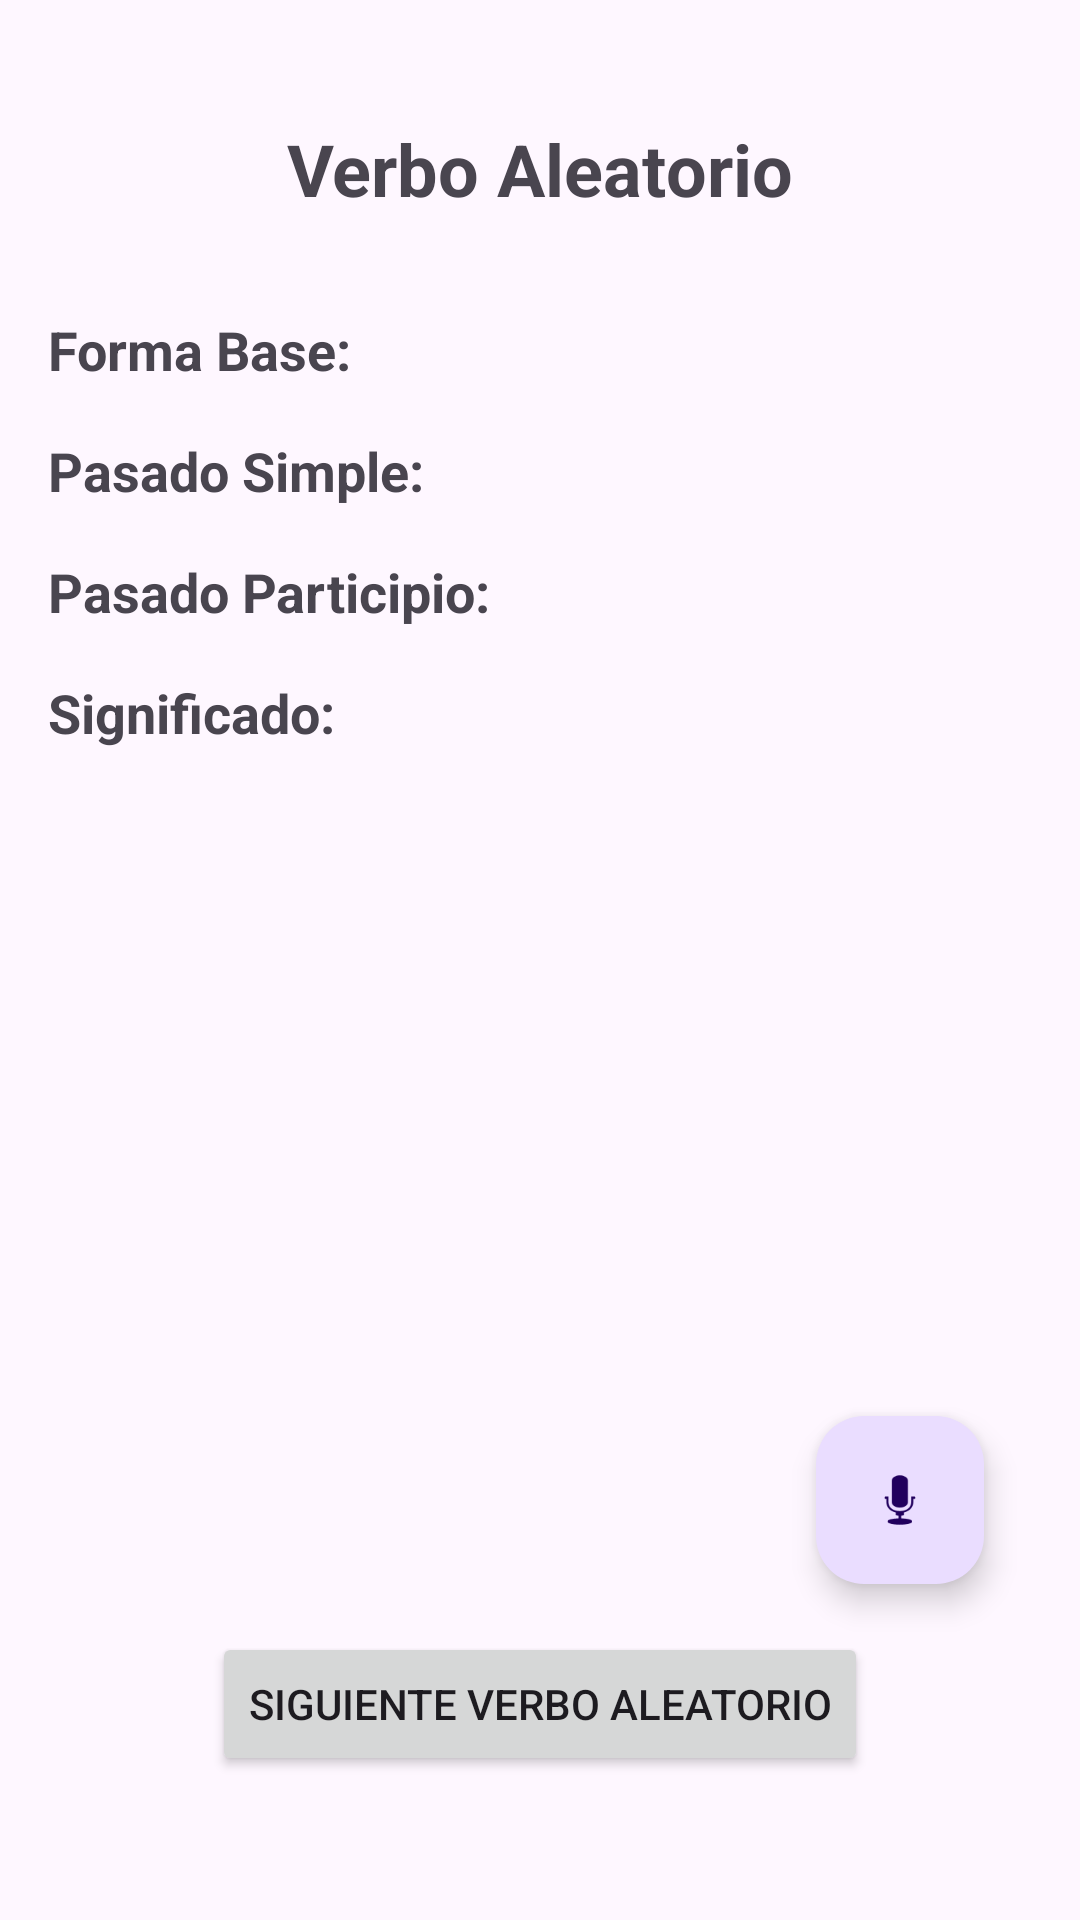

Screen size 1080 x 1920. Icon name, then its center in pixels as (x,y):
Leer verbo en voz alta: (900,1500)
